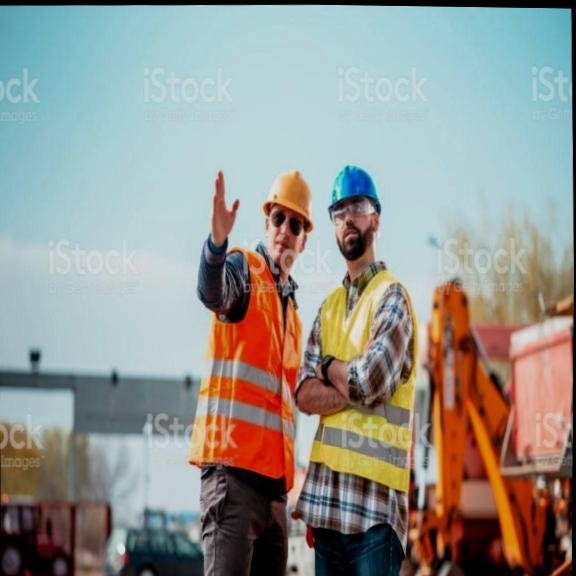safety_vest: (205, 254, 302, 485), (317, 281, 415, 489)
